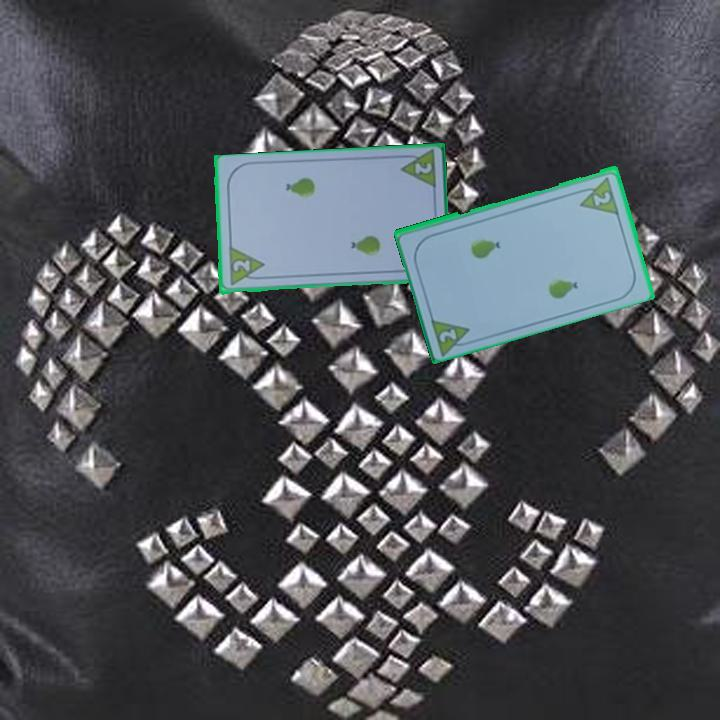2p: (225, 245, 267, 289), (435, 325, 460, 345), (590, 188, 614, 208), (411, 159, 435, 177)
